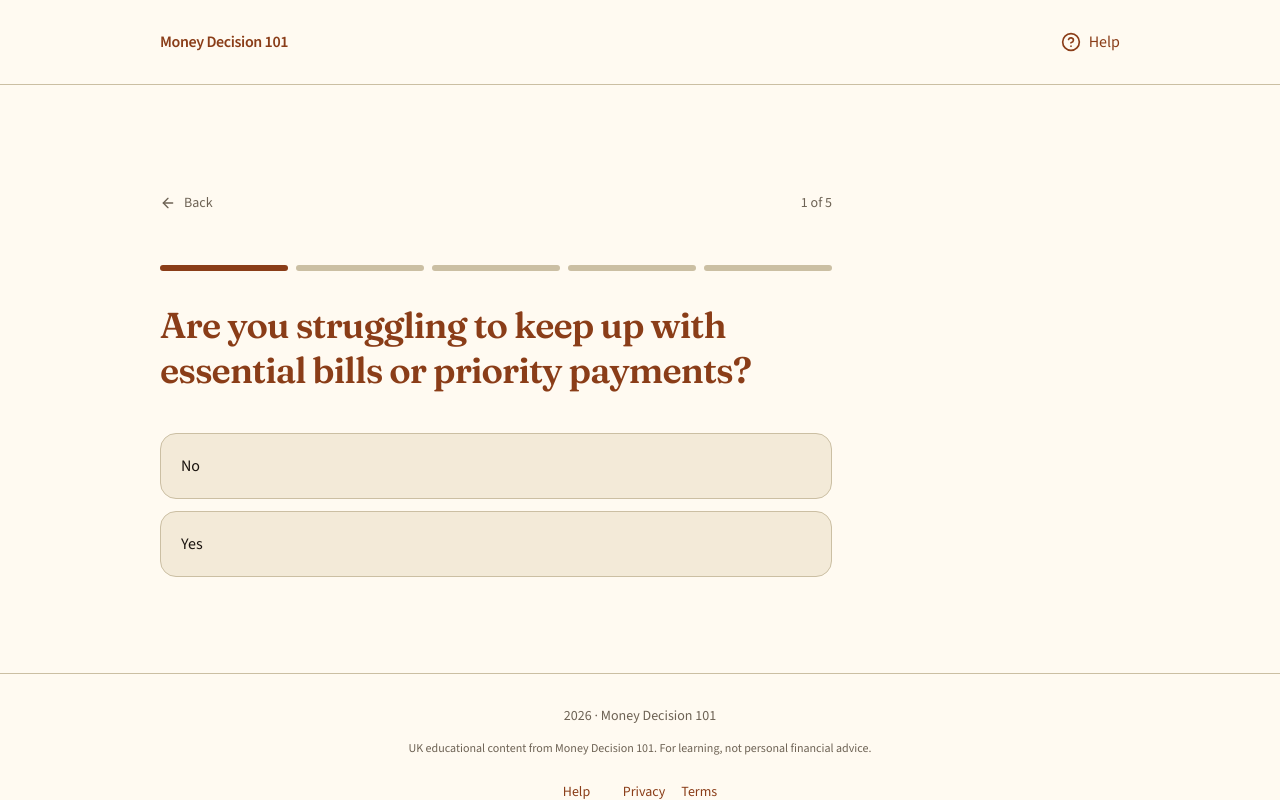
Test: Money Decision journey › shows the disclaimer on the FINANCIAL_DIFFICULTY result screen
Earlier steps of the test are not shown.
Click the button "No": (191, 466) [160,433,832,499]
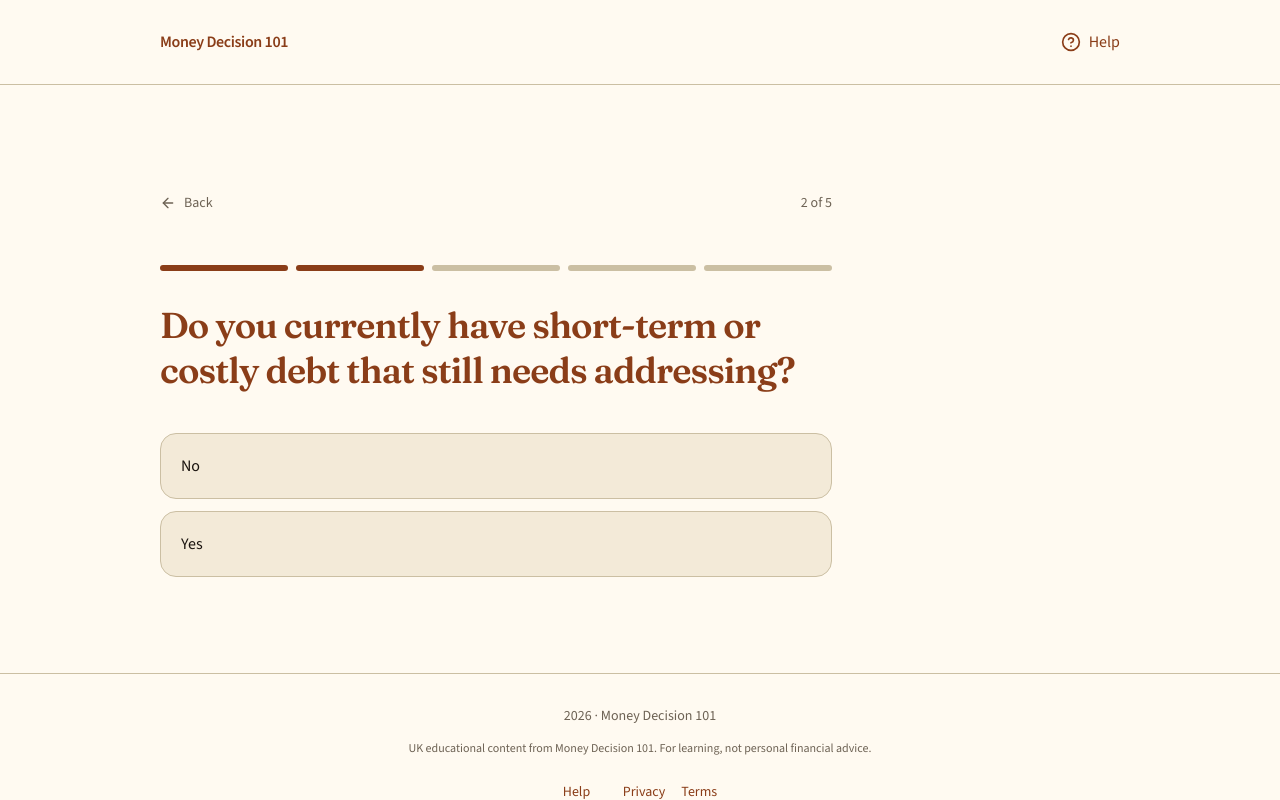
Click the button "Yes": (192, 544) [160,511,832,577]
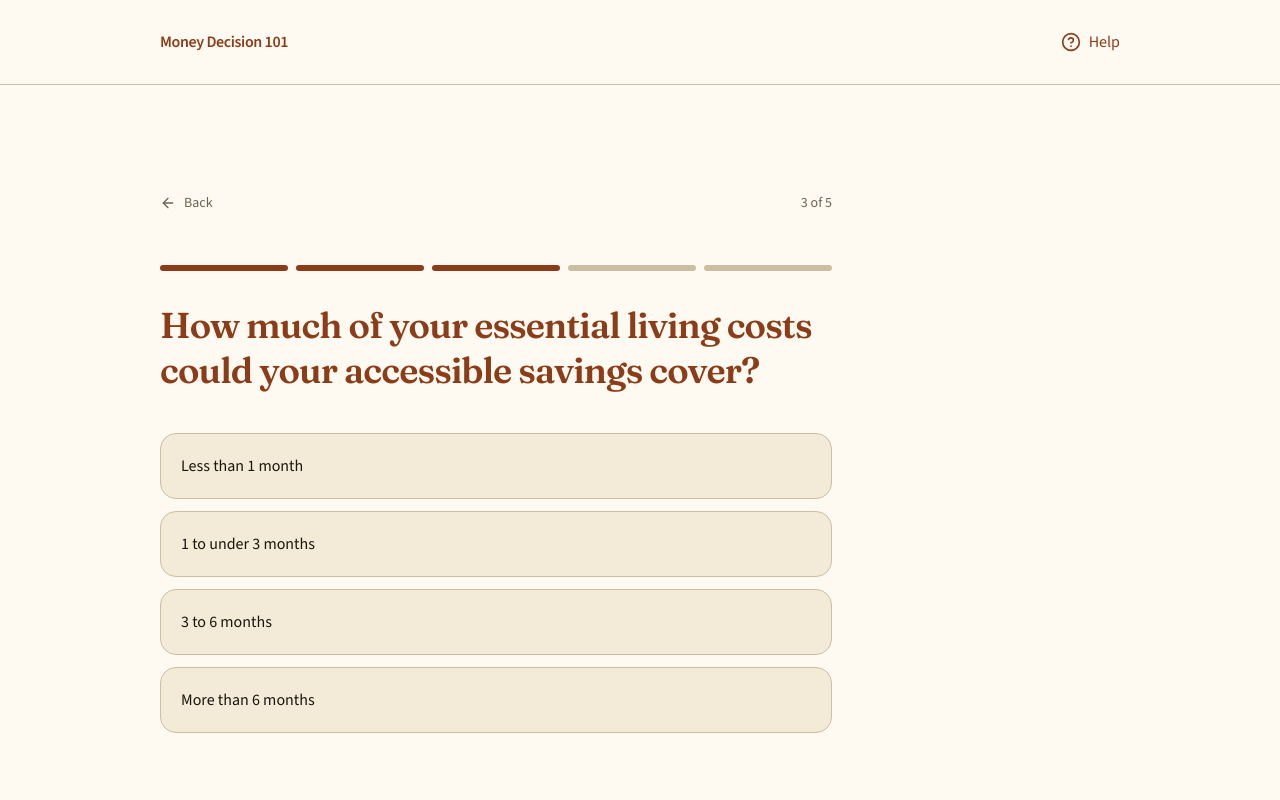
Click the button "1 to under 3 months": (248, 544) [160,511,832,577]
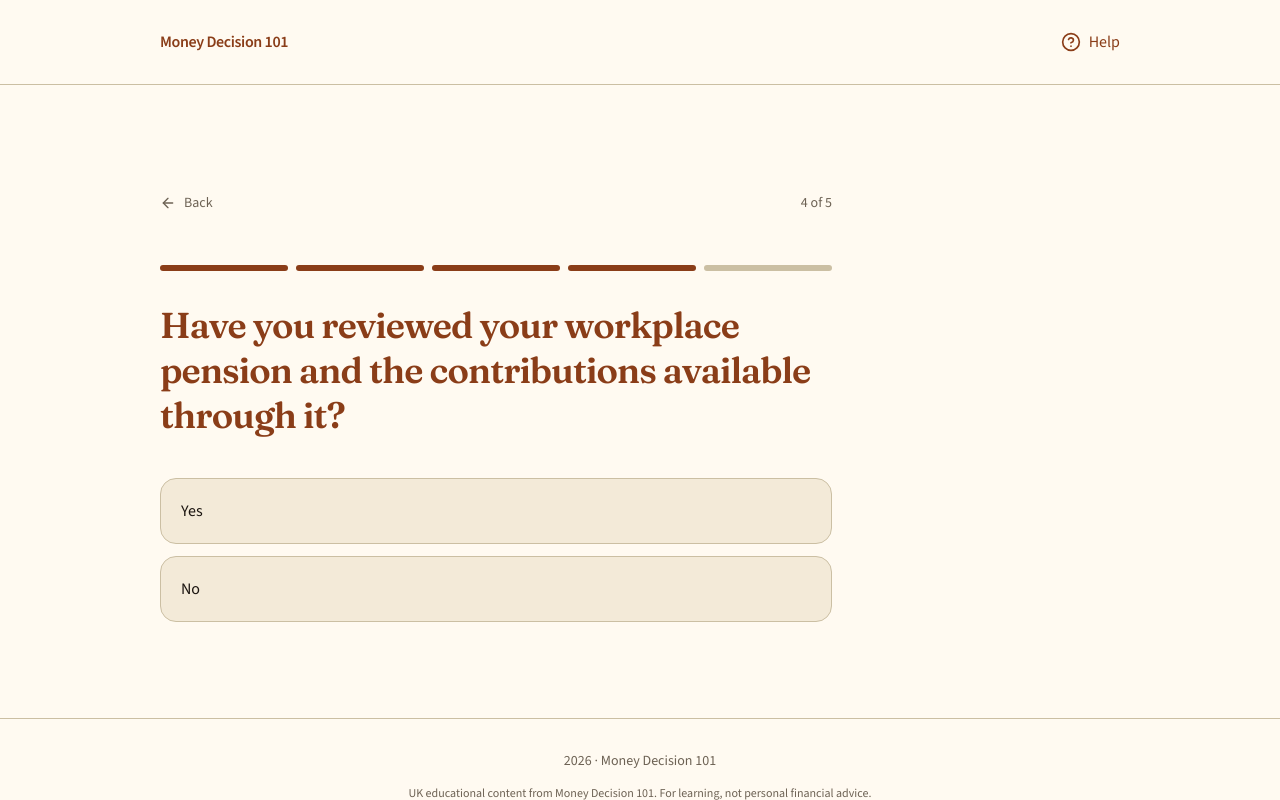
Click the button "No": (191, 588) [160,556,832,622]
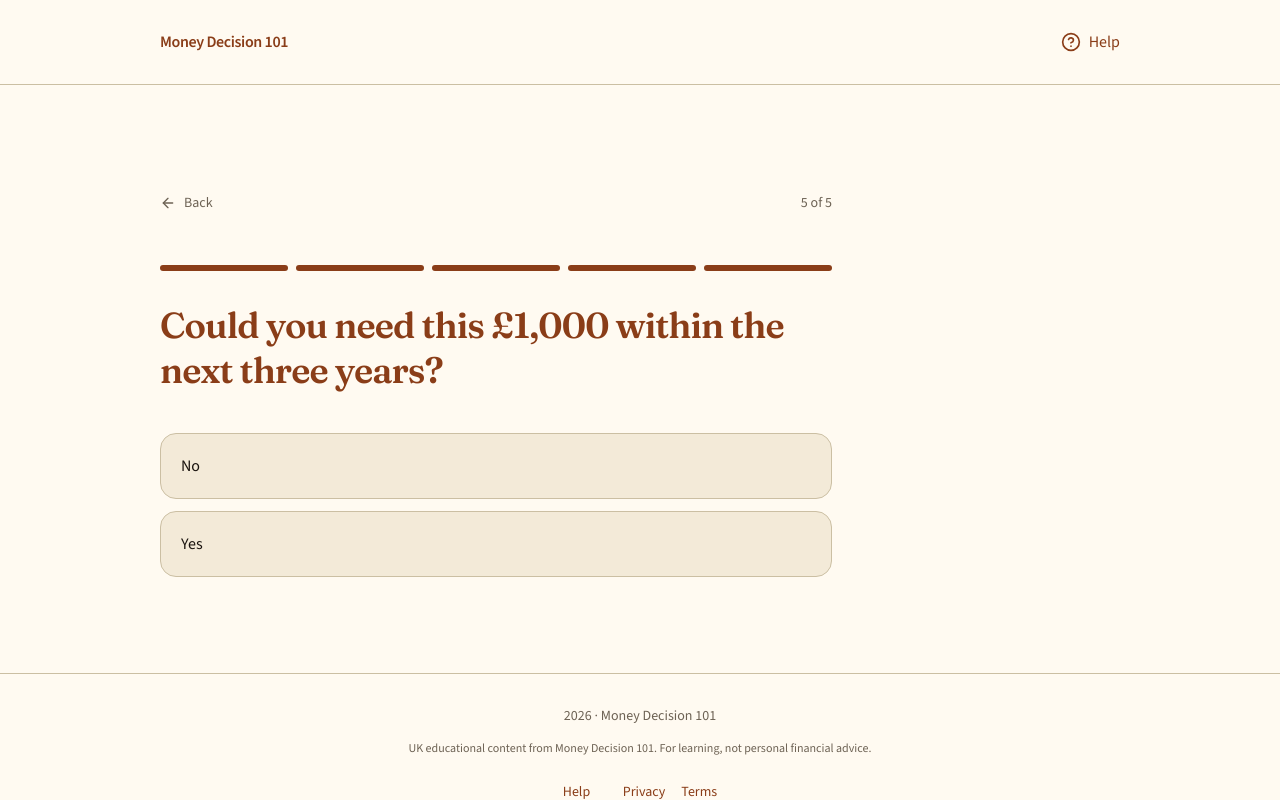
Click the button "No": (191, 466) [160,433,832,499]
(page scrolled)
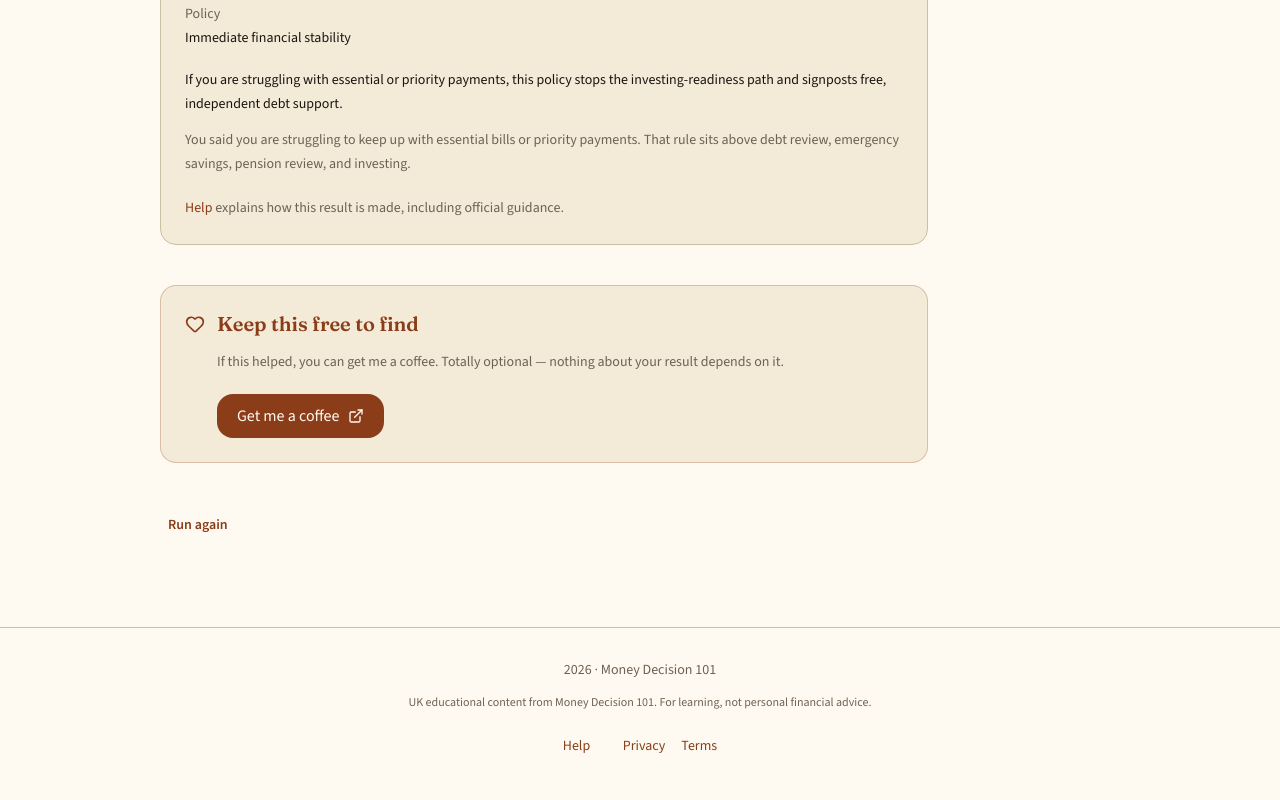
Click the button "Run again": (198, 525) [160,503,236,547]
(page scrolled)
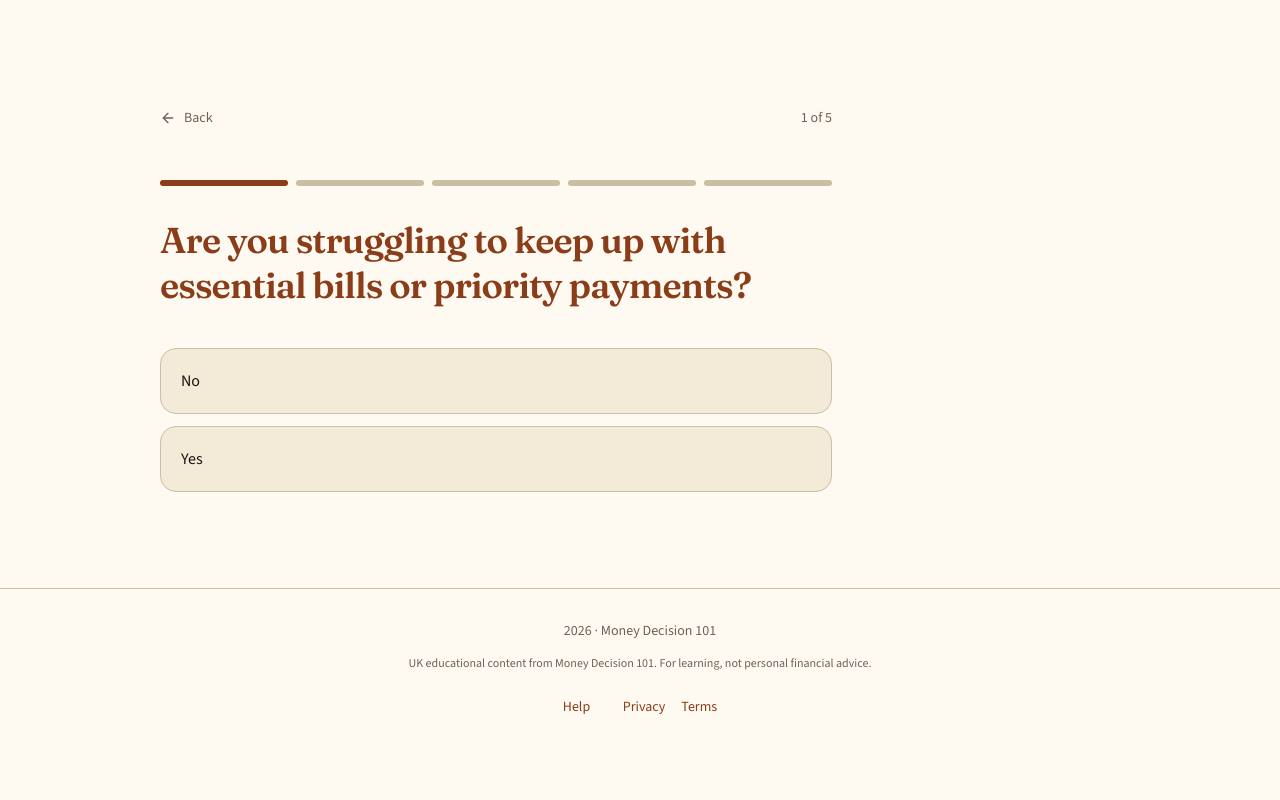
Expected: the text "1 of 5" is shown, [801,108,832,128]
